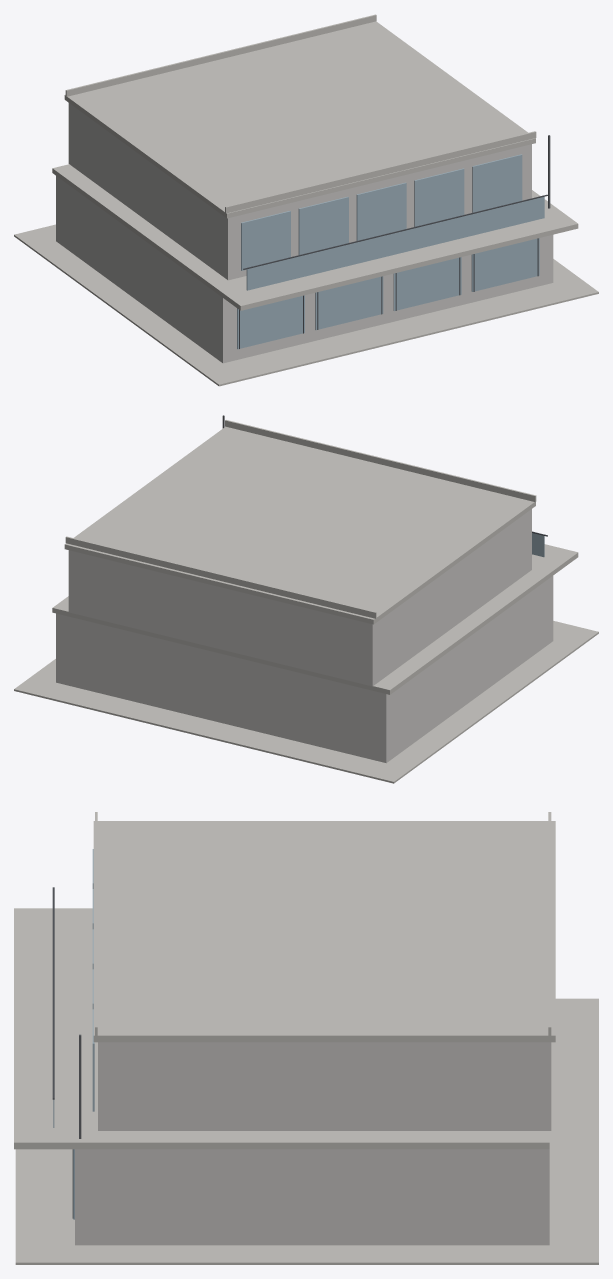
File: luxury-villa-large.glb
The picture shows the model from 3 angles, top to bottom: view 1: azimuth 30°, elevation 25°; view 2: azimuth 150°, elevation 25°; view 3: azimuth 270°, elevation 25°; orthographic projection. The views are drawn at different scales.
Parts seen in each view (by area): view 1: House; view 2: House; view 3: House.
Boxes of the visible parts, box(x1,y1,x2,y2) form: House: box(14, 14, 598, 386); House: box(14, 415, 598, 783); House: box(14, 812, 598, 1264).
Bounding box in the file's own units: 18.4 × 6.94 × 17.25.
